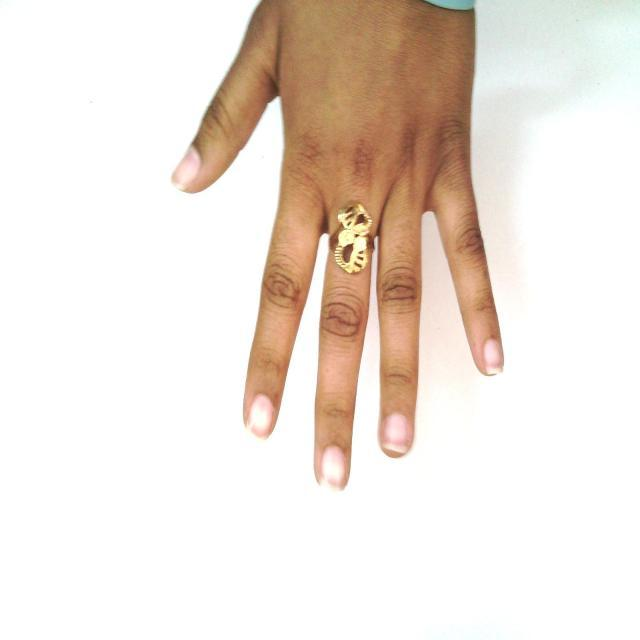Fingernail: (322, 446, 345, 491), (173, 147, 199, 186), (249, 396, 273, 437), (384, 414, 409, 451), (484, 339, 502, 373)
